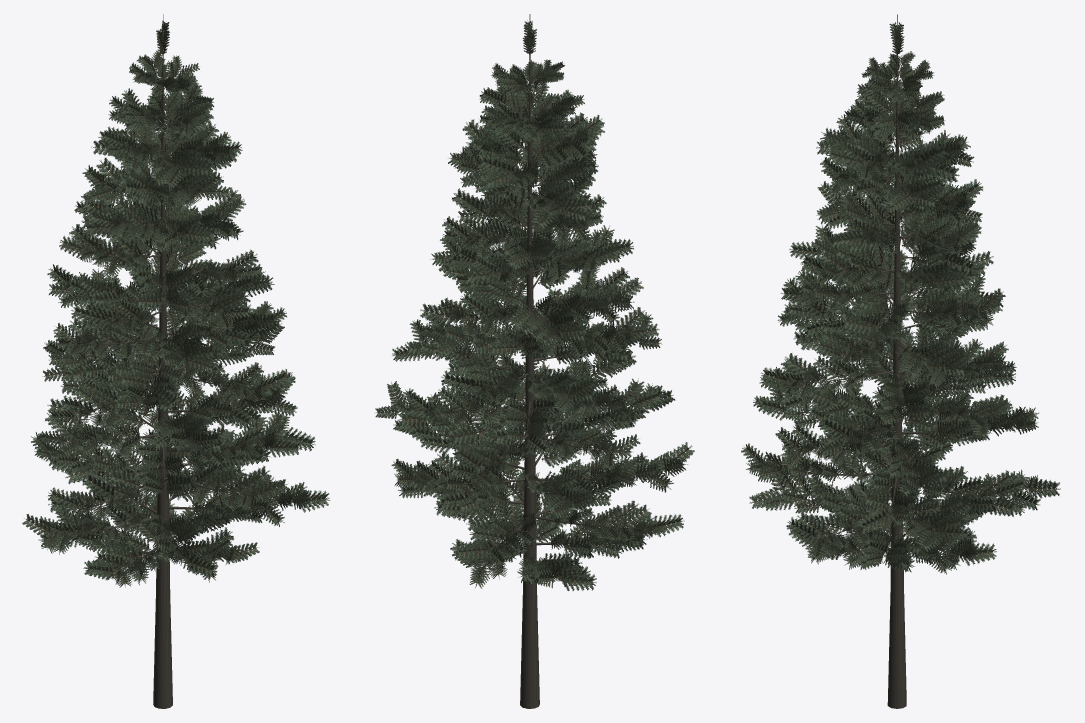
Rendered from Sitka_Pole_01_LOD0.fbx.
3 views of the same model, side by side, from view 1: azimuth 30°, elevation 25°; view 2: azimuth 150°, elevation 25°; view 3: azimuth 270°, elevation 25° (orthographic).
Parts seen in each view (by area): view 1: Sitka_Pole_01_LOD0_Foliage, Sitka_Pole_01_LOD0_Trunk, Sitka_Pole_01_LOD0_Branches; view 2: Sitka_Pole_01_LOD0_Foliage, Sitka_Pole_01_LOD0_Trunk, Sitka_Pole_01_LOD0_Branches; view 3: Sitka_Pole_01_LOD0_Foliage, Sitka_Pole_01_LOD0_Trunk, Sitka_Pole_01_LOD0_Branches.
Boxes of the visible parts, x1=… form: Sitka_Pole_01_LOD0_Foliage: x1=22, y1=20, x2=329, y2=587; Sitka_Pole_01_LOD0_Trunk: x1=153, y1=14, x2=172, y2=708; Sitka_Pole_01_LOD0_Branches: x1=49, y1=72, x2=286, y2=573; Sitka_Pole_01_LOD0_Foliage: x1=375, y1=20, x2=694, y2=590; Sitka_Pole_01_LOD0_Trunk: x1=520, y1=14, x2=539, y2=708; Sitka_Pole_01_LOD0_Branches: x1=398, y1=79, x2=663, y2=578; Sitka_Pole_01_LOD0_Foliage: x1=741, y1=22, x2=1060, y2=574; Sitka_Pole_01_LOD0_Trunk: x1=887, y1=14, x2=906, y2=708; Sitka_Pole_01_LOD0_Branches: x1=766, y1=61, x2=1029, y2=557.
Bounding box in the file's own units: 353 × 800 × 355.
